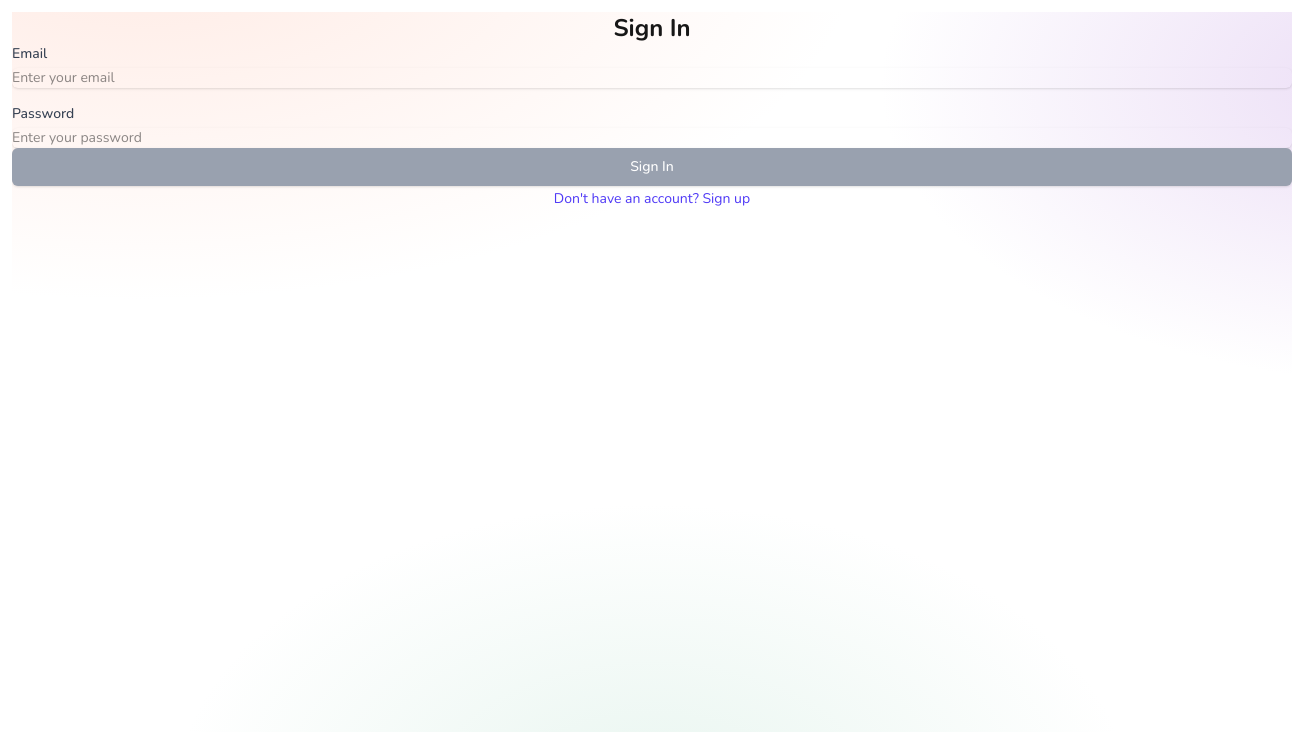
it: AuthForm Compound Component › Form Interaction › should toggle between sign in and sign up modes
Expected: the heading "Sign In" is shown, x1=613 y1=12 x2=690 y2=44
# Toggle to sign up
Click the button with test id "toggle-button" at (652, 199), box x1=12 y1=189 x2=1292 y2=209
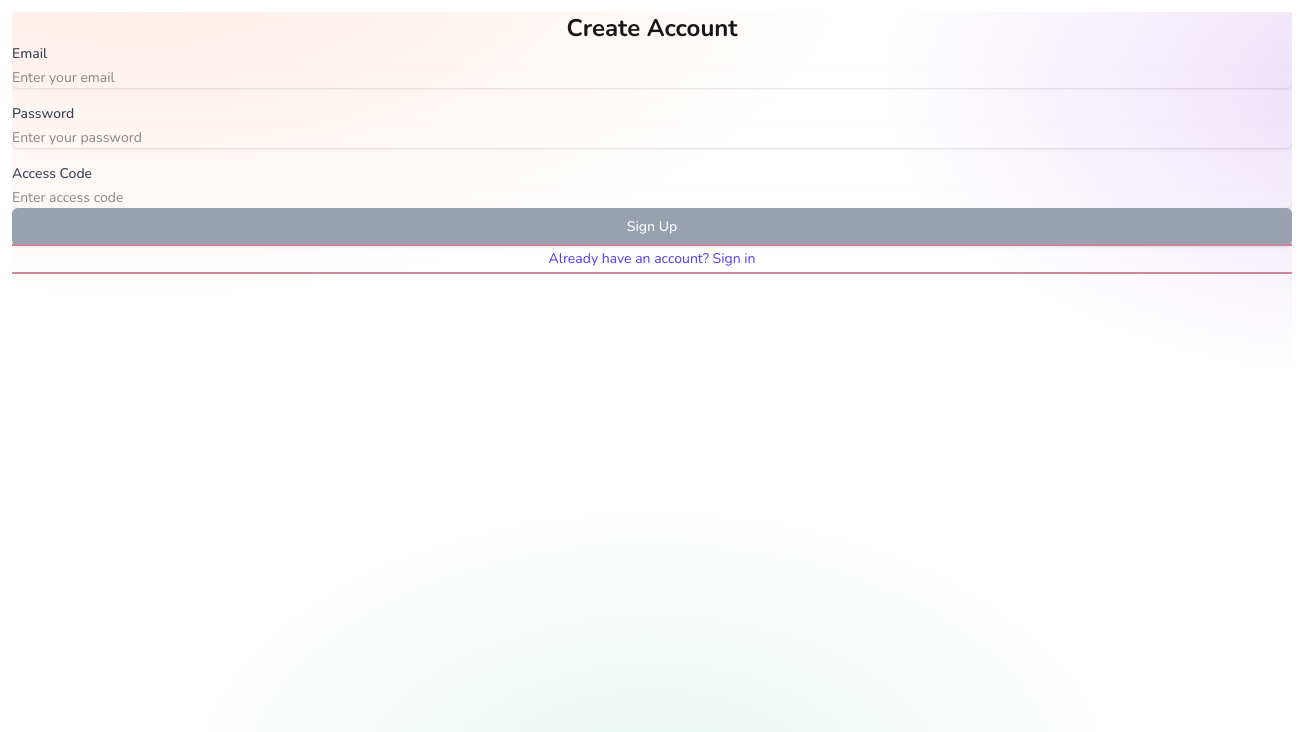
Expected: the field with test id "email-input" is empty, x1=12 y1=68 x2=1292 y2=88
Expected: the heading "Create Account" is shown, x1=566 y1=12 x2=738 y2=44
# Toggle back to sign in
Click the button with test id "toggle-button" at (652, 259), box x1=12 y1=249 x2=1292 y2=269
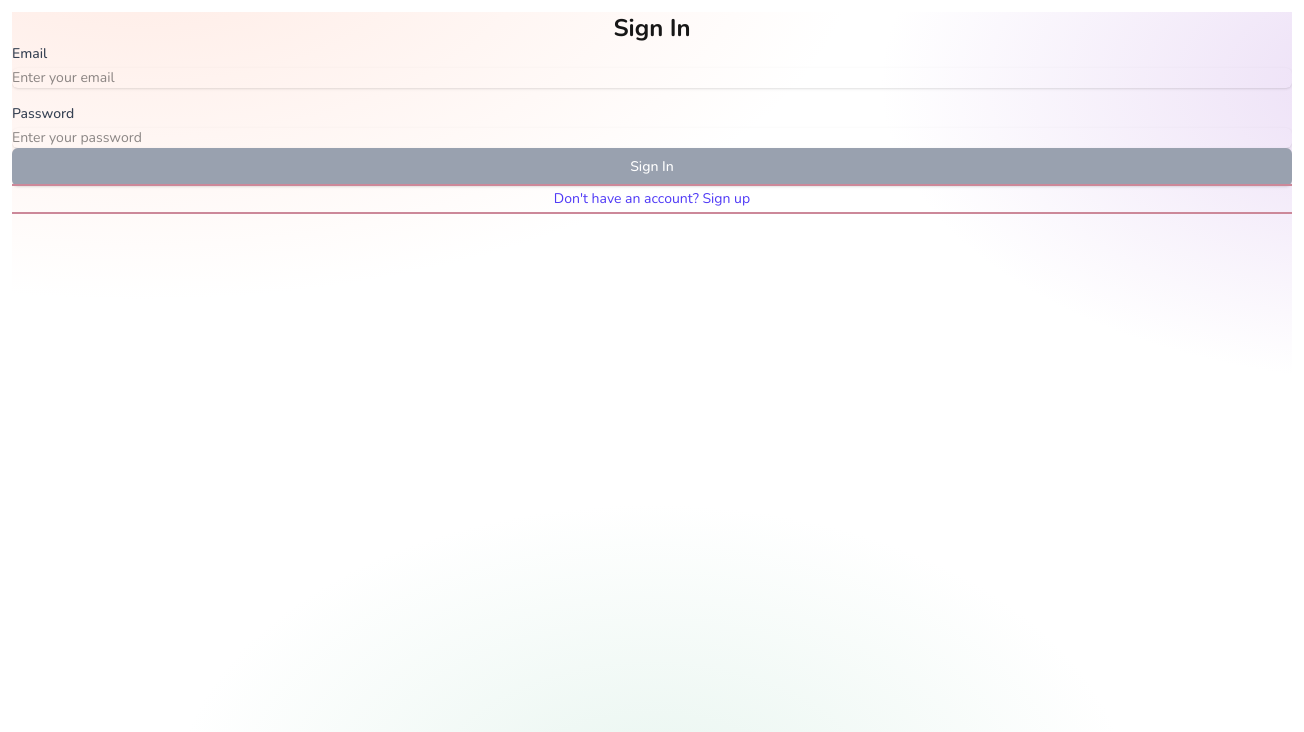
Expected: the heading "Sign In" is shown, x1=613 y1=12 x2=690 y2=44
